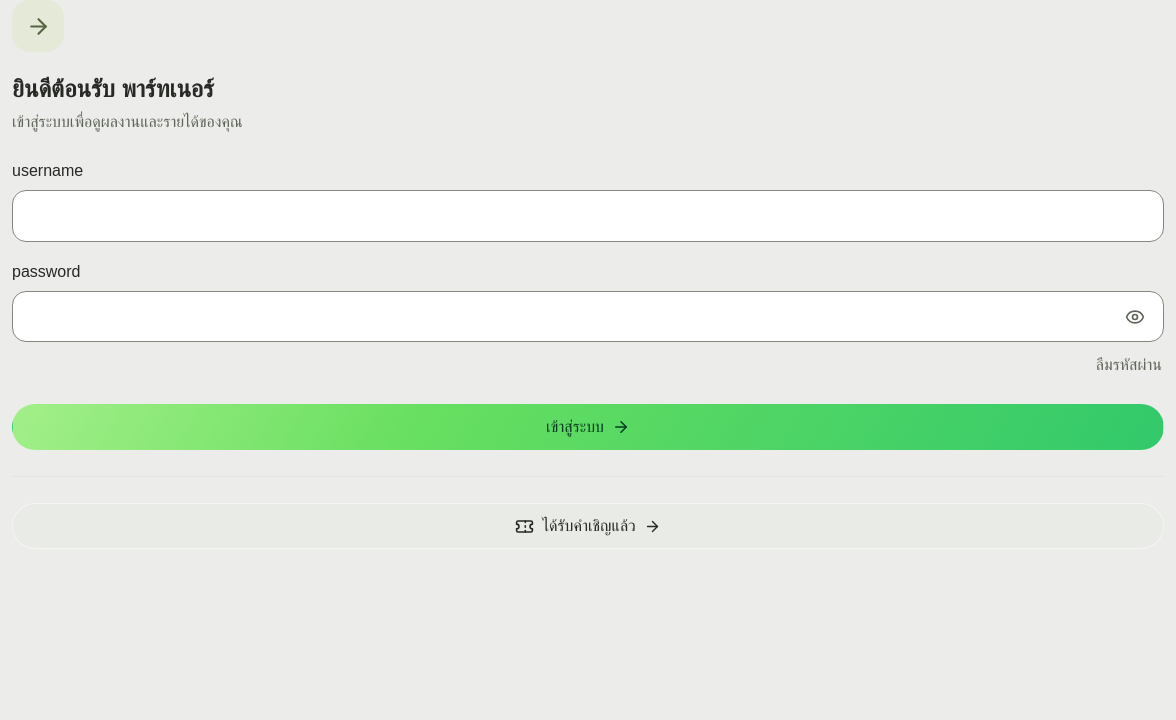
Test: public access presentation › uses invited username/password accounts and explains setup without public signup
What coordinates should you click on to do the following:
click the button "ได้รับคำเชิญแล้ว"
I would click on:
 (588, 526)
Its box is [12, 503, 1164, 549].
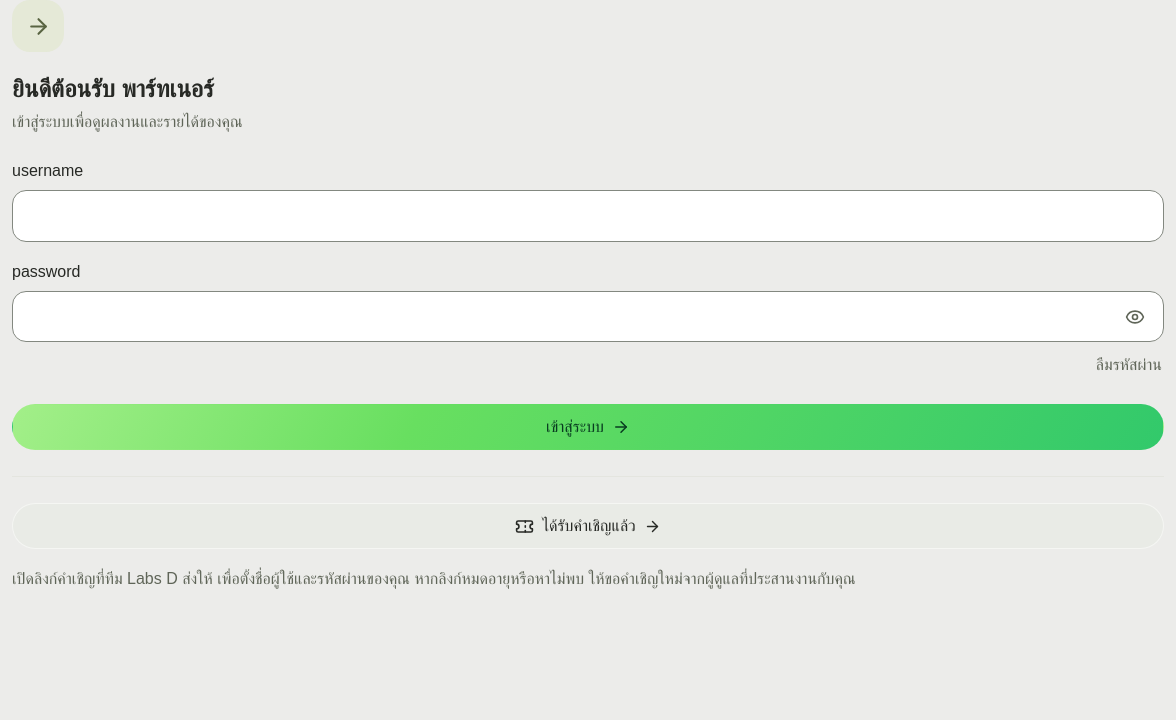
Expected: the text "เปิดลิงก์คำเชิญที่ทีม Labs D ส่งให้" is shown, [12, 570, 856, 587]
